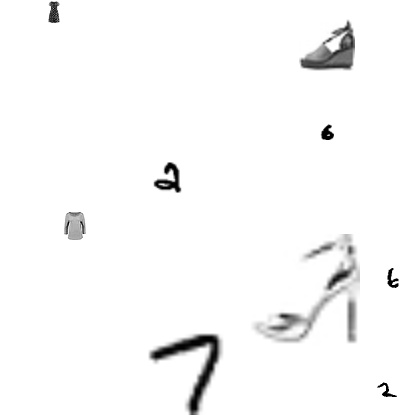2: (148, 158, 190, 200), (372, 376, 400, 404)
6: (377, 265, 405, 293), (316, 122, 338, 144)
7: (138, 303, 250, 415)
Dress: (43, 1, 65, 23)
Sandal: (248, 234, 360, 346), (299, 16, 355, 72)
T-shirt/top: (61, 212, 89, 240)
